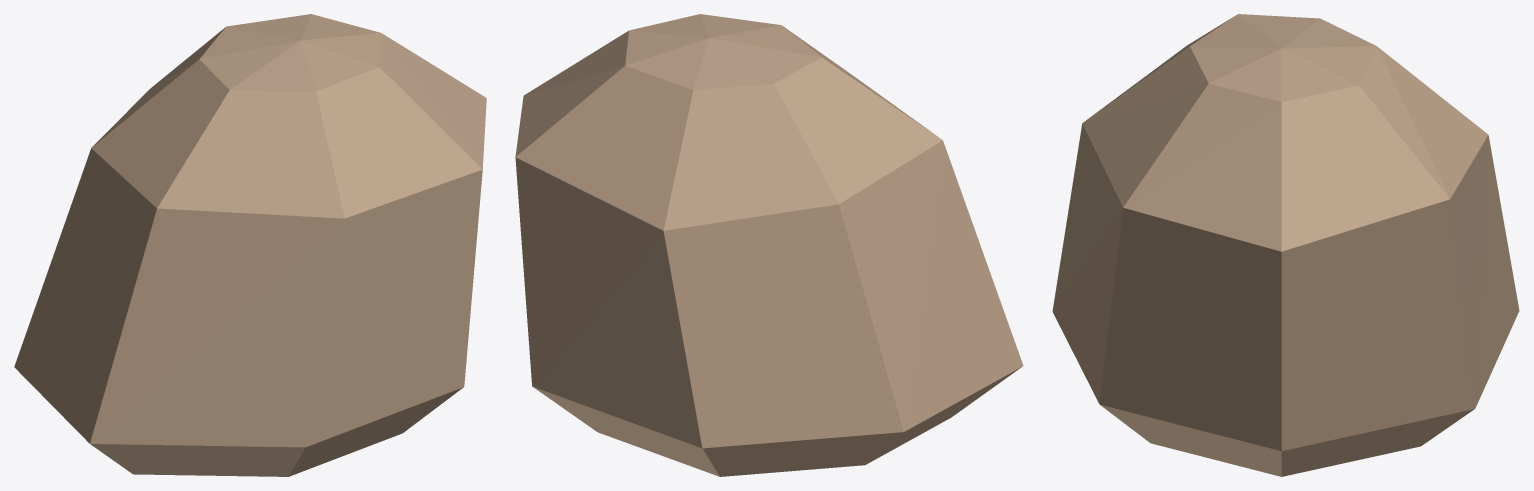
3 views of the same model, side by side, from view 1: azimuth 30°, elevation 25°; view 2: azimuth 150°, elevation 25°; view 3: azimuth 270°, elevation 25° (orthographic). The views are drawn at different scales.
Visible parts, largest first — view 1: R05; view 2: R05; view 3: R05.
Part boxes in pixels (x1,y1,x2,y2): R05: (14,14,486,476); R05: (515,14,1023,476); R05: (1052,14,1519,476).
Size of the model in its own units: 0.9529 by 0.7245 by 0.8183.
